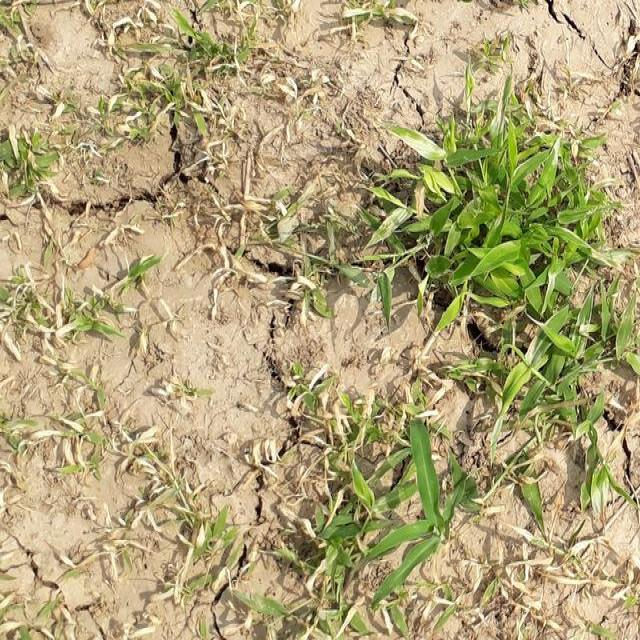weed: (366, 114, 640, 397), (378, 425, 461, 584), (266, 194, 355, 320), (301, 502, 382, 632), (35, 370, 129, 479), (282, 375, 381, 476), (175, 506, 267, 608), (487, 412, 547, 531), (148, 15, 252, 76), (574, 409, 620, 526), (72, 512, 157, 573), (5, 266, 62, 347), (123, 83, 208, 131), (6, 128, 56, 205), (160, 368, 213, 423), (459, 31, 503, 94), (6, 595, 60, 640), (346, 0, 417, 31), (66, 303, 121, 343), (120, 252, 160, 285)
